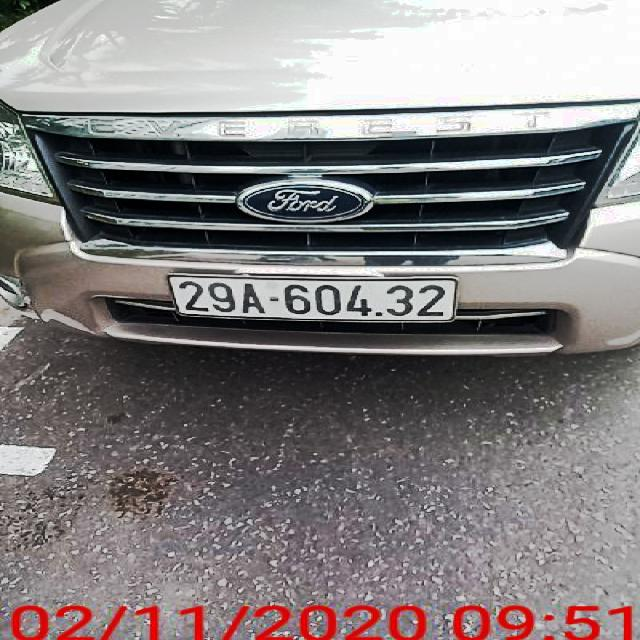license_plate: (175, 277, 456, 321)
